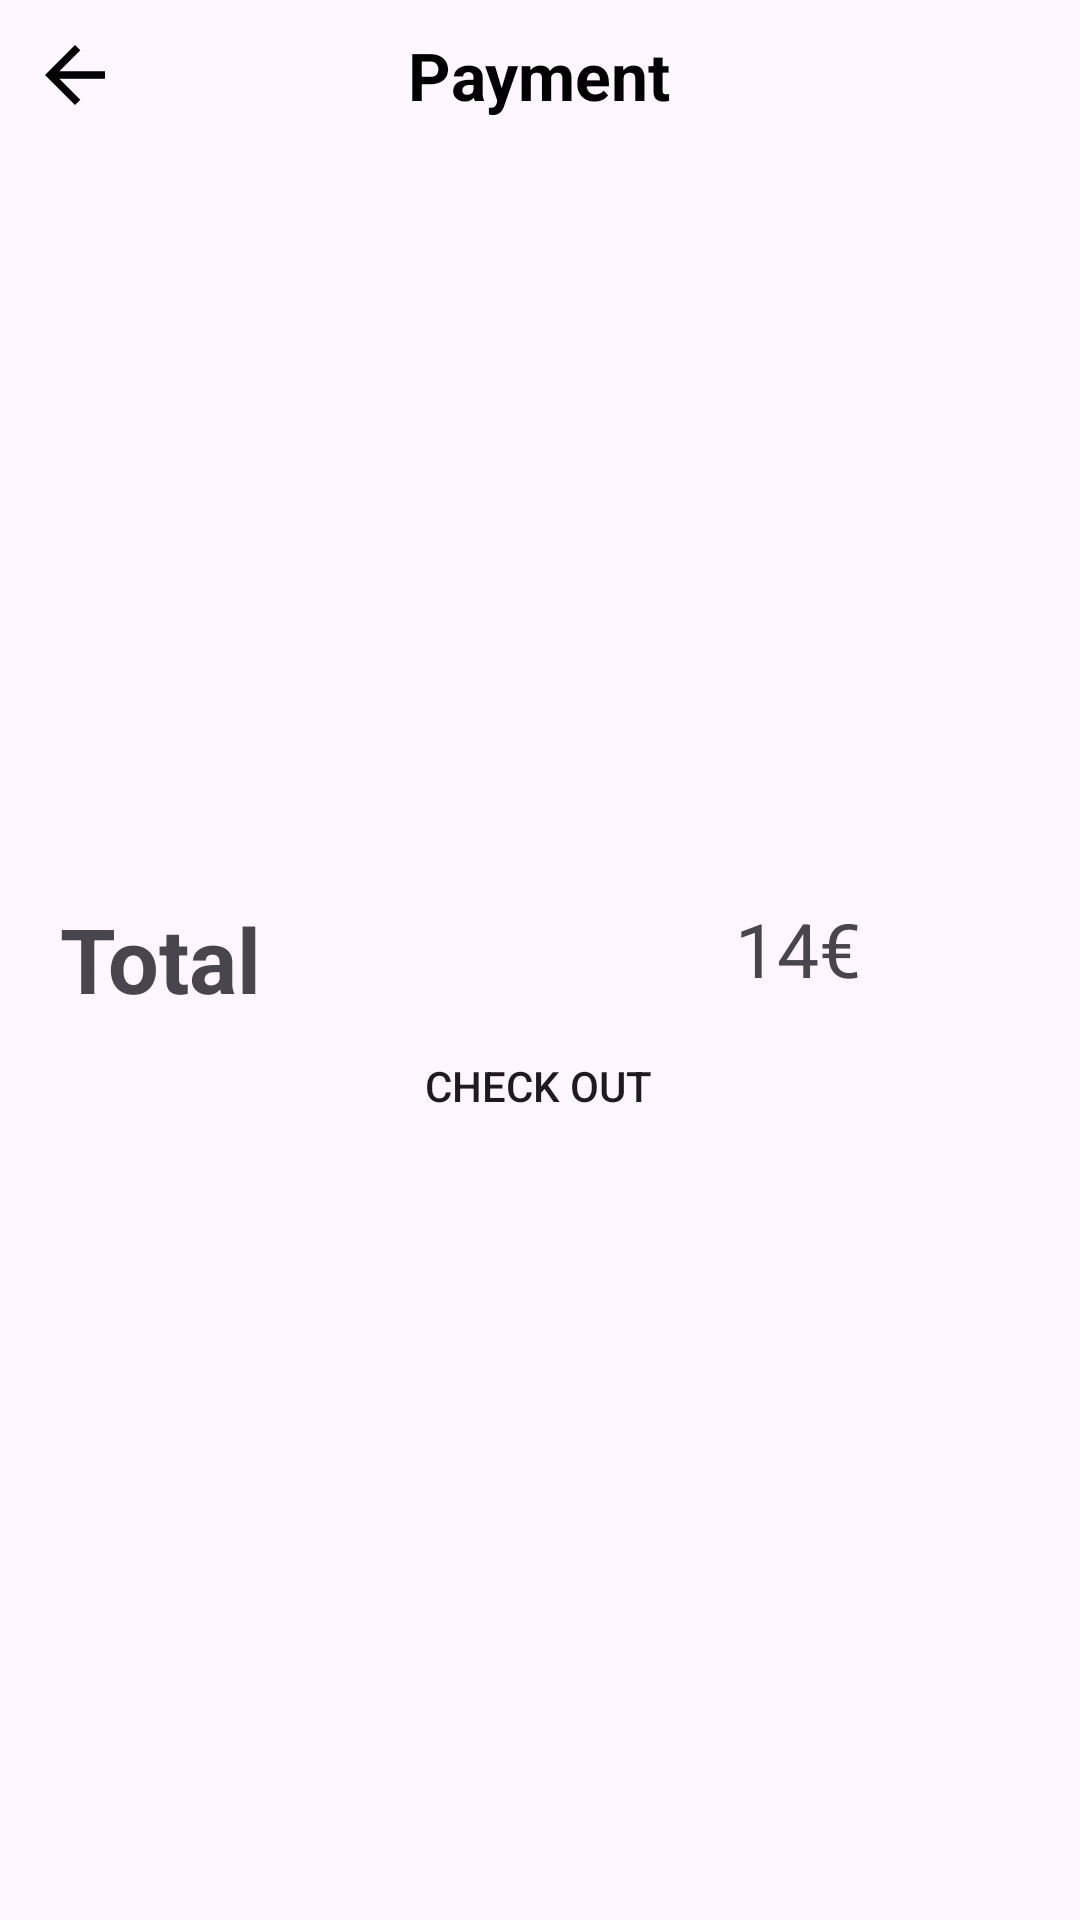

Icon bounding boxes for this 1080 × 1920 phone screenshot, format {"left": x1, "top": y1, "right": x2, "bottom": y2}:
arrow back: {"left": 45, "top": 45, "right": 105, "bottom": 105}
